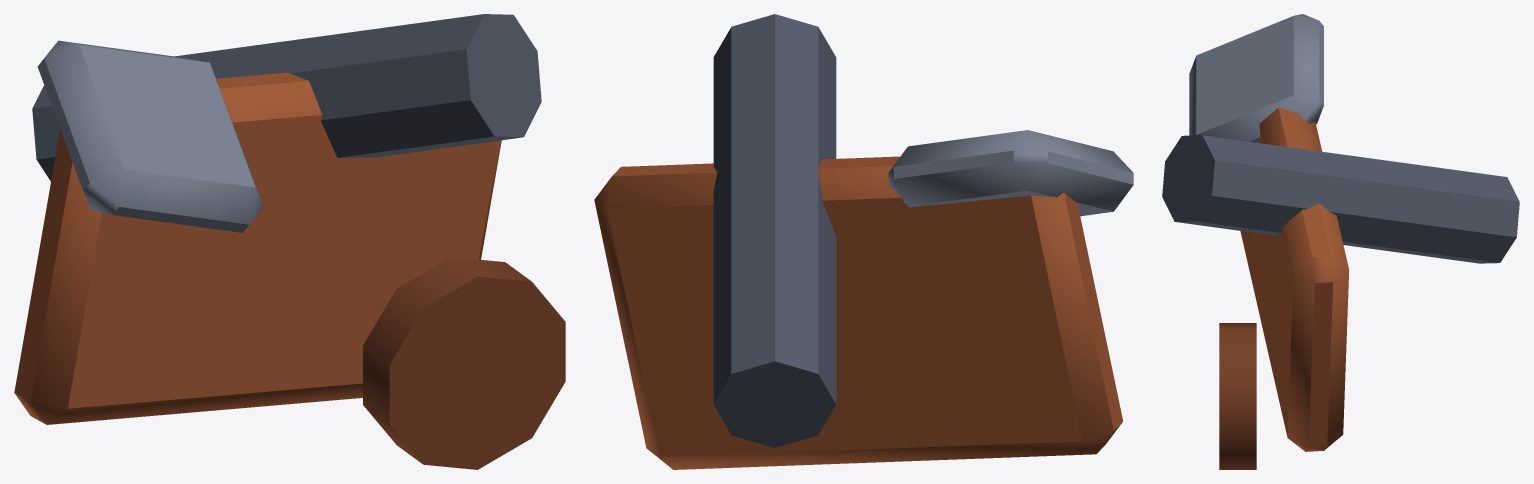
File: c_scrap.glb
3 views of the same model, side by side, from view 1: azimuth 30°, elevation 25°; view 2: azimuth 150°, elevation 25°; view 3: azimuth 270°, elevation 25° (orthographic). The views are drawn at different scales.
Visible parts, largest first — view 1: body; view 2: body; view 3: body.
Part boxes in pixels (x1,y1,x2,y2): body: [14, 14, 565, 469]; body: [594, 14, 1133, 469]; body: [1162, 14, 1519, 469].
Size of the model in its own units: 0.4549 by 0.3891 by 0.3818.
